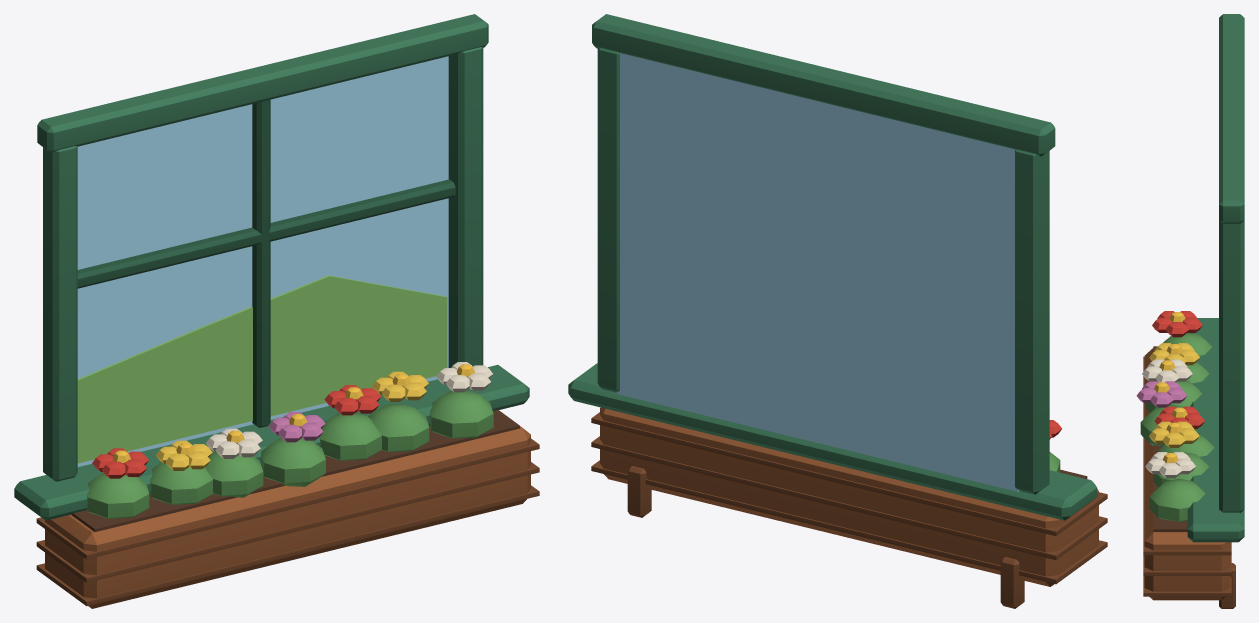
File: janela-floreira-classico.glb
3 views of the same model, side by side, from view 1: azimuth 30°, elevation 25°; view 2: azimuth 150°, elevation 25°; view 3: azimuth 270°, elevation 25° (orthographic). The views are drawn at different scales.
Visible parts, largest first — view 1: moldura, placa, placa.001, folhas, flores; view 2: placa, moldura; view 3: moldura, flores, folhas.
Boxes of the visible parts, x1=… form: moldura: x1=14, y1=14, x2=539, y2=608; placa: x1=77, y1=56, x2=448, y2=466; placa.001: x1=77, y1=275, x2=447, y2=463; folhas: x1=87, y1=390, x2=493, y2=518; flores: x1=92, y1=362, x2=492, y2=478; placa: x1=616, y1=53, x2=1019, y2=491; moldura: x1=568, y1=14, x2=1107, y2=608; moldura: x1=1143, y1=14, x2=1244, y2=608; flores: x1=1136, y1=311, x2=1204, y2=478; folhas: x1=1140, y1=333, x2=1214, y2=521.
Size of the model in its own units: 1.75 by 1.63 by 0.379.
